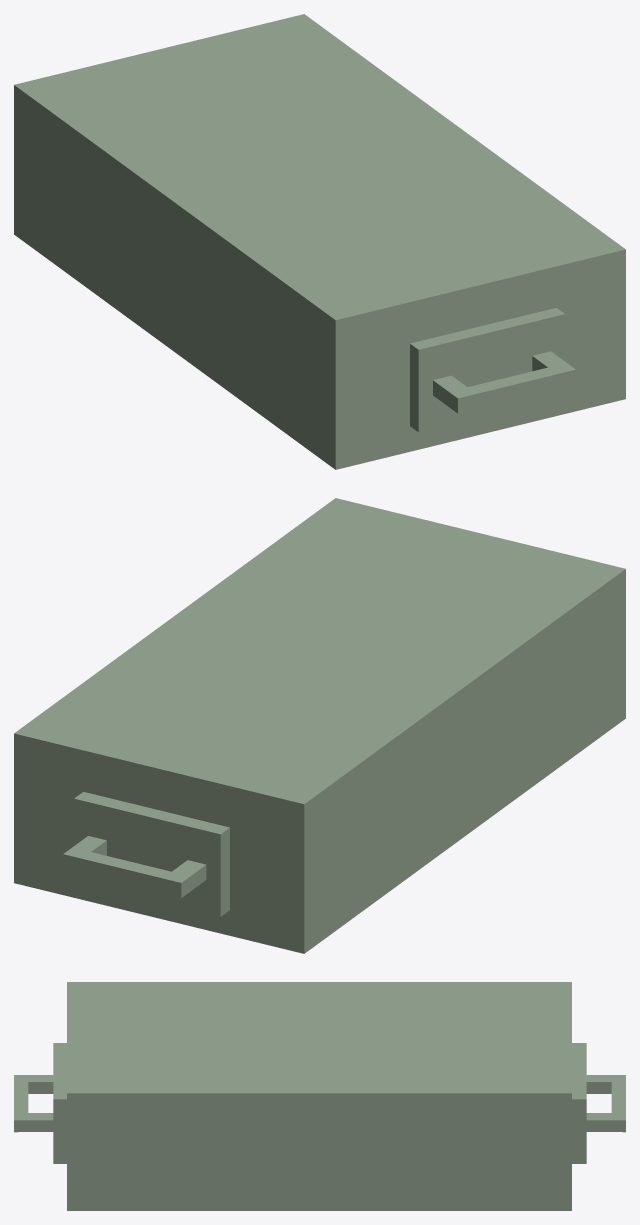
The model's file is metal_box_03.fbx.
The picture shows the model from 3 angles, top to bottom: view 1: azimuth 30°, elevation 25°; view 2: azimuth 150°, elevation 25°; view 3: azimuth 270°, elevation 25°; orthographic projection. The views are drawn at different scales.
Parts seen in each view (by area): view 1: metal_box_03; view 2: metal_box_03; view 3: metal_box_03.
Boxes of the visible parts, box(x1,y1,x2,y2) form: metal_box_03: box(14, 14, 625, 469); metal_box_03: box(14, 498, 625, 953); metal_box_03: box(14, 982, 625, 1210).
Bounding box in the file's own units: 0.969 × 0.4774 × 2.25.
